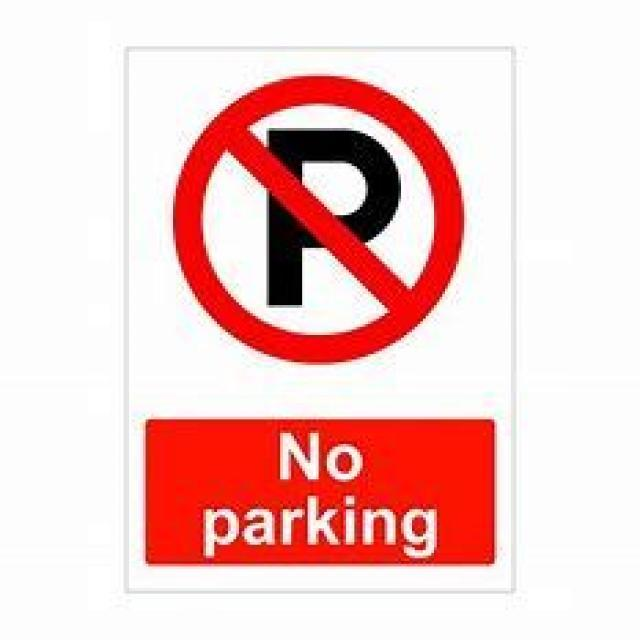no parking: (163, 66, 476, 365)
